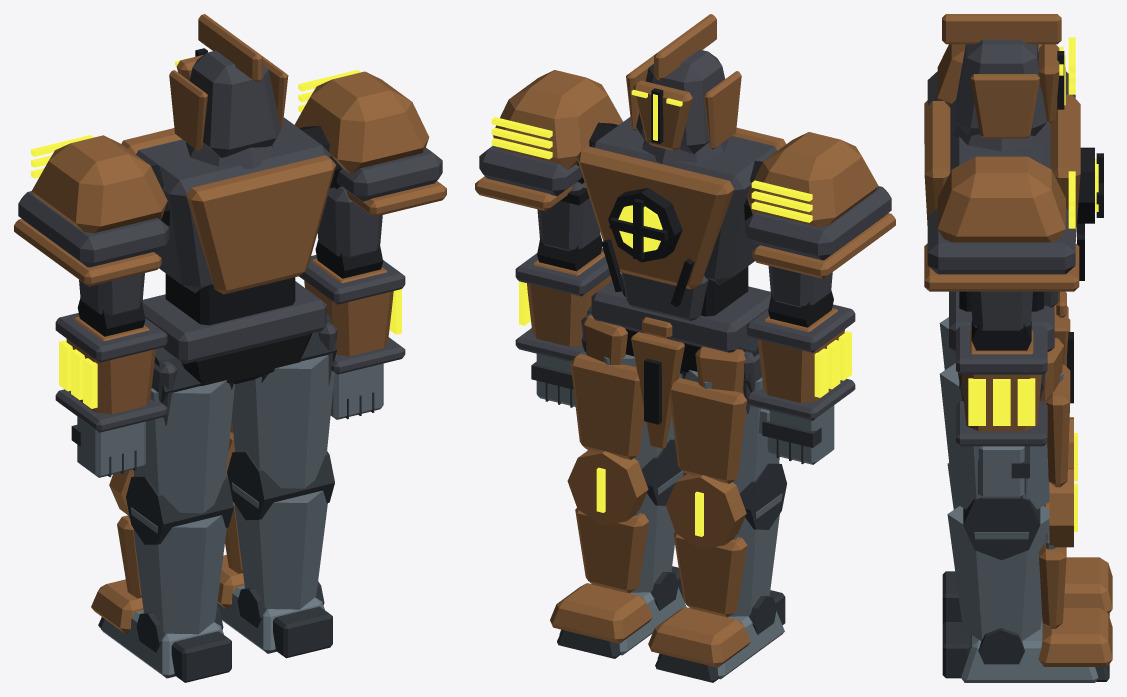
Rendered from Robot_Boss.fbx.
3 views of the same model, side by side, from view 1: azimuth 30°, elevation 25°; view 2: azimuth 150°, elevation 25°; view 3: azimuth 270°, elevation 25° (orthographic). The views are drawn at different scales.
Visible parts, largest first — view 1: Chest, Shin.L, Shin.R, Head, Hips, Forearm.L, Thigh.R, Thigh.L, Forearm.R, Foot.L, Foot.R, Hand.L (+3 smaller); view 2: Chest, Hips, Shin.L, Shin.R, Head, Forearm.L, Thigh.L, Forearm.R, Foot.L, Foot.R, Thigh.R, Hand.L (+3 smaller); view 3: Chest, Shin.R, Head, Forearm.R, Foot.R, Thigh.R, Hips, Foot.L, Hand.R, UpperArm.R, Shin.L, Thigh.L.
Part boxes in pixels (x1,y1,x2,y2): Chest: [14, 69, 446, 325]; Shin.L: [109, 470, 233, 634]; Shin.R: [225, 432, 334, 609]; Head: [169, 14, 288, 157]; Hips: [142, 281, 337, 425]; Forearm.L: [55, 298, 167, 432]; Thigh.R: [230, 313, 337, 488]; Thigh.L: [133, 347, 234, 513]; Forearm.R: [299, 240, 405, 374]; Foot.L: [91, 579, 231, 682]; Foot.R: [217, 554, 332, 658]; Hand.L: [71, 416, 145, 477]; Chest: [475, 70, 895, 320]; Hips: [581, 274, 770, 449]; Shin.L: [666, 463, 786, 617]; Shin.R: [567, 439, 685, 593]; Head: [626, 14, 741, 153]; Forearm.L: [746, 290, 855, 420]; Thigh.L: [669, 338, 779, 493]; Forearm.R: [515, 234, 612, 361]; Foot.L: [648, 590, 785, 682]; Foot.R: [550, 566, 686, 658]; Thigh.R: [570, 305, 681, 469]; Hand.L: [758, 405, 834, 464]; Chest: [924, 37, 1103, 311]; Shin.R: [947, 468, 1077, 640]; Head: [942, 14, 1065, 138]; Forearm.R: [956, 321, 1047, 446]; Foot.R: [942, 608, 1112, 682]; Thigh.R: [939, 363, 1070, 509]; Hips: [949, 291, 1073, 403]; Foot.L: [942, 557, 1112, 624]; Hand.R: [978, 446, 1029, 498]; UpperArm.R: [970, 291, 1032, 330]; Shin.L: [947, 417, 1077, 509]; Thigh.L: [939, 317, 1070, 369].
Bounding box in the file's own units: 3.66 × 1.61 × 5.9.
